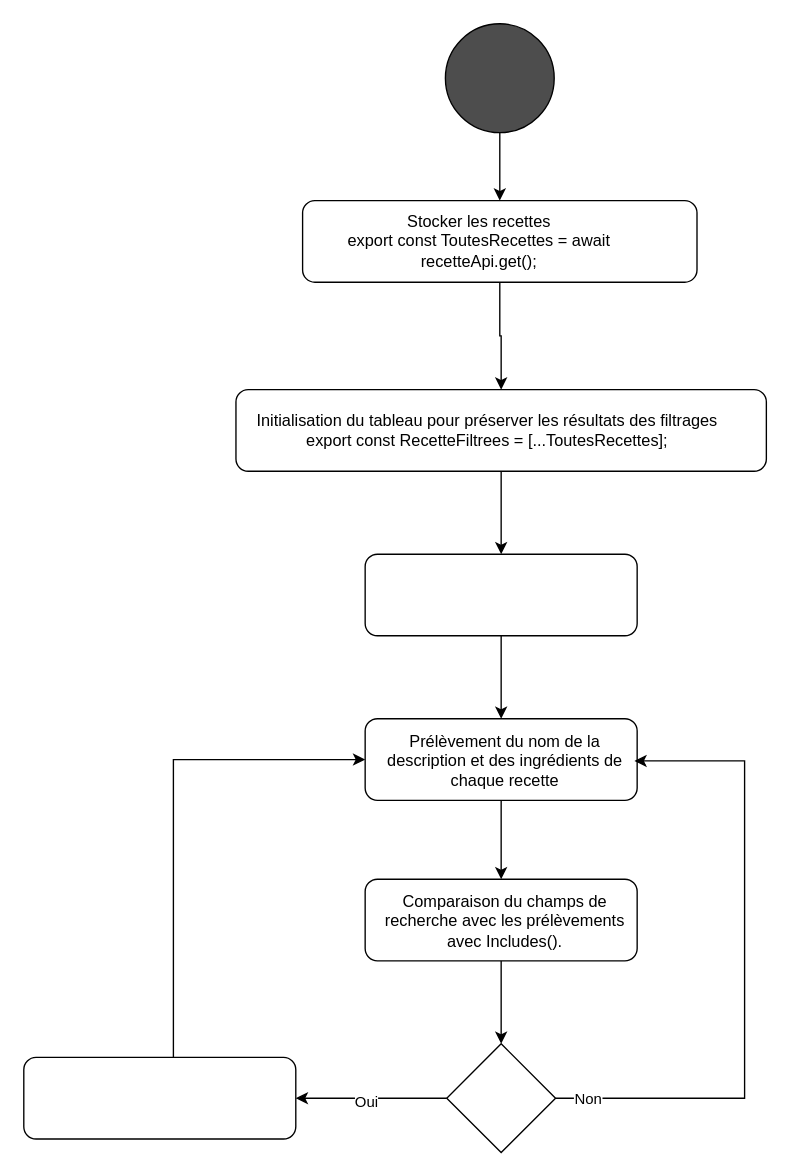
Image size: 790x1176. Some labels were removed from this diagram. Here are the shapes that lost their labels. From the top down, the centre of each, then its label:
At (500,594): "Requête (avec au moins 3 caractères dans la barre de recherche)".
At (159,1097): "Stocker la recette dans le tableau".
